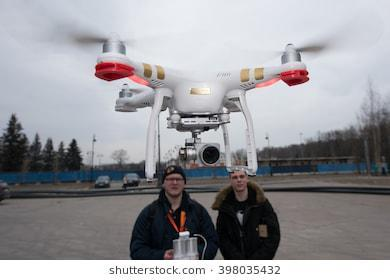drone: (0, 0, 390, 185)
